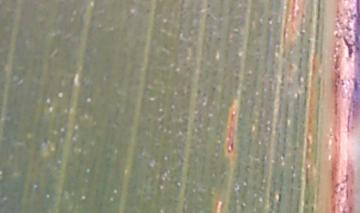tarspot: (343, 36, 355, 58)
